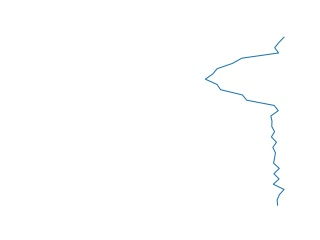distalBar: (202, 36, 289, 205)
